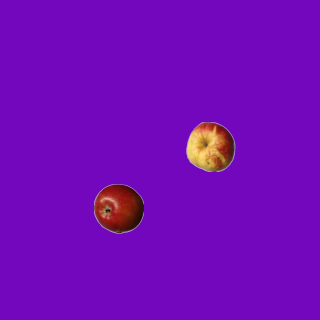Apple Braeburn: (93, 183, 143, 233)
Apple Red Yellow 1: (185, 121, 235, 171)
